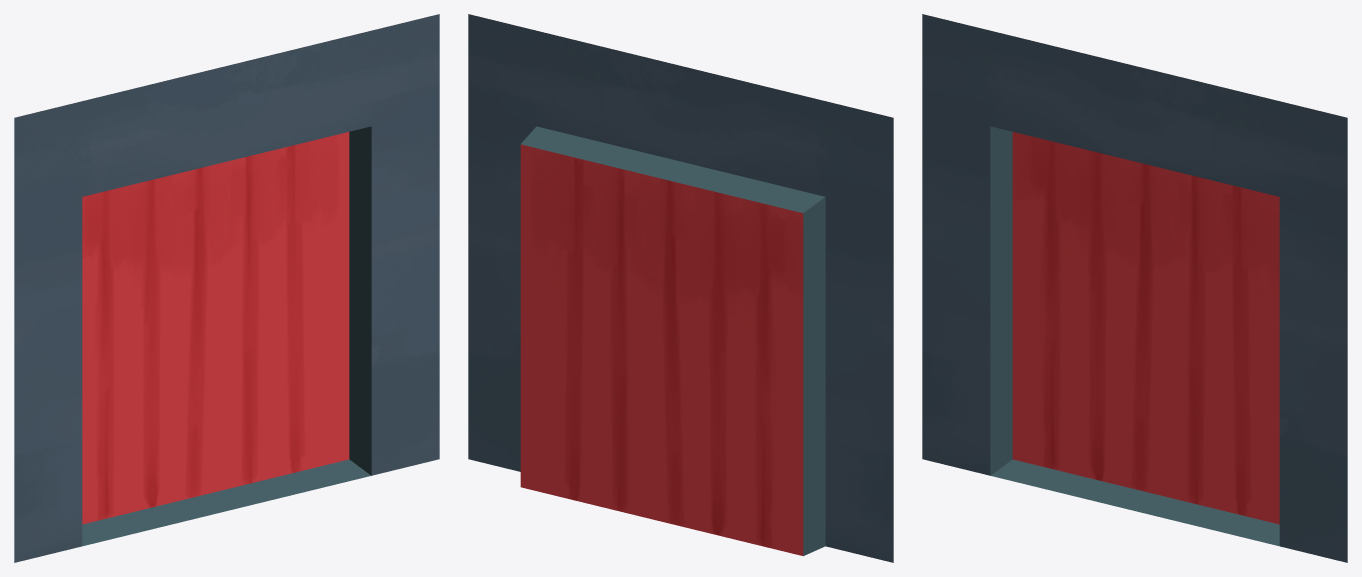
Rendered from m_face_block_garage.FBX.
The picture shows the model from 3 angles, left to right: view 1: azimuth 30°, elevation 25°; view 2: azimuth 150°, elevation 25°; view 3: azimuth 330°, elevation 25°; orthographic projection.
Visible parts, largest first — view 1: face_block_garage; view 2: face_block_garage; view 3: face_block_garage.
Part boxes in pixels (x1,y1,x2,y2): face_block_garage: [14, 14, 439, 562]; face_block_garage: [468, 14, 893, 562]; face_block_garage: [922, 14, 1347, 562].
Size of the model in its own units: 100 by 100 by 7.75.
